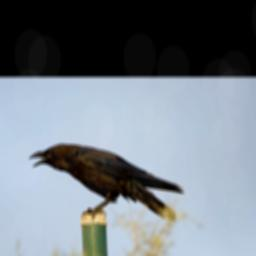Crow: (26, 139, 188, 221)
